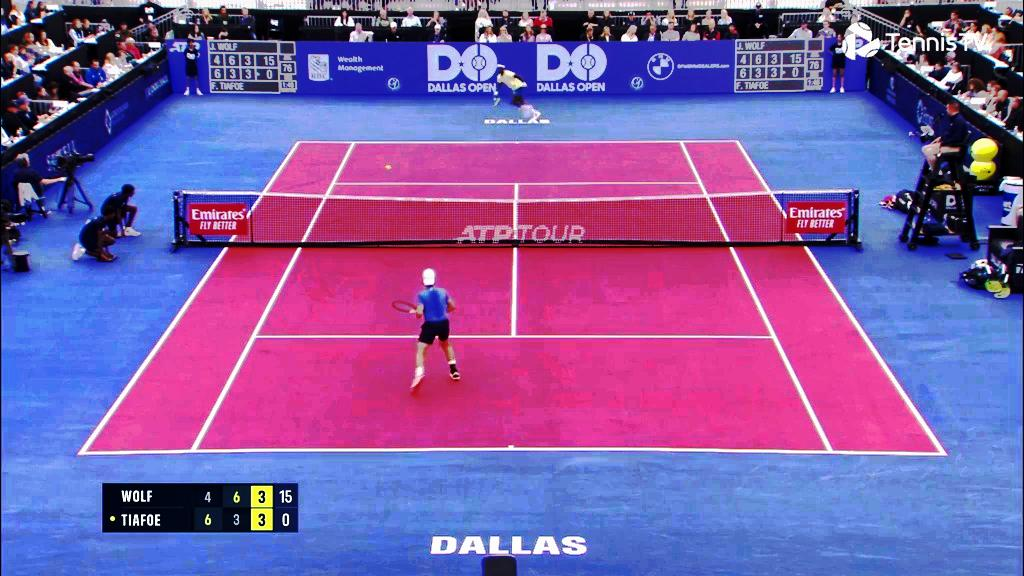tennis-court: (77, 141, 948, 455)
